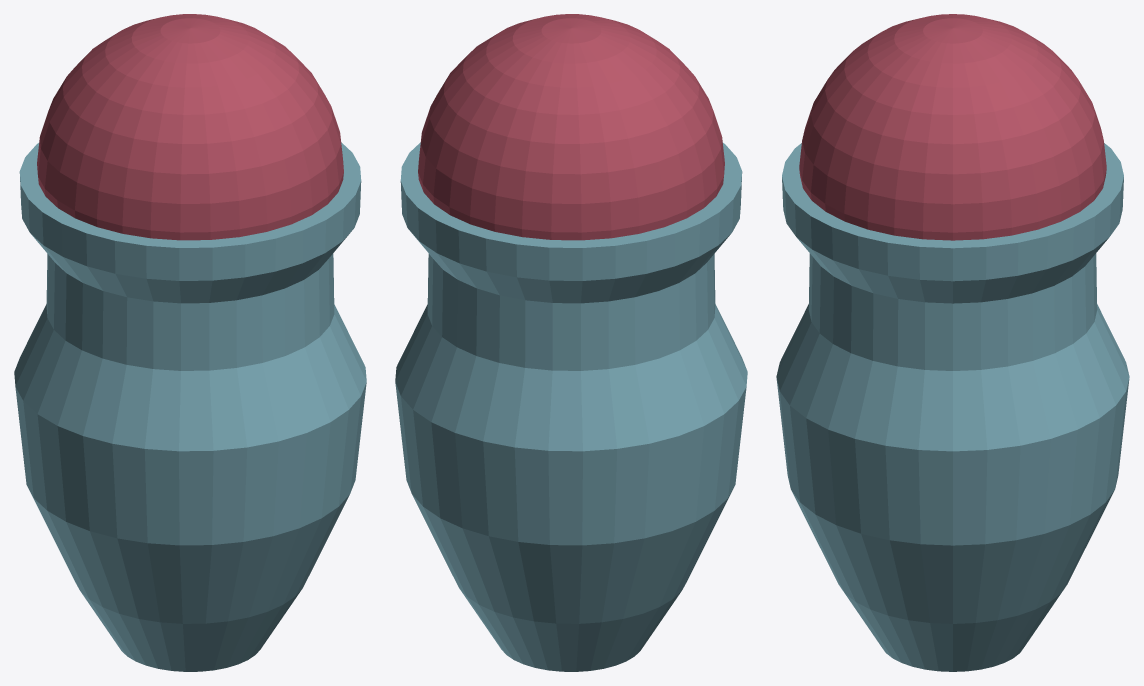
The model's file is SK_P_Smashroom_02_Lvl1.fbx.
3 renders of one model, left to right at view 1: azimuth 30°, elevation 25°; view 2: azimuth 150°, elevation 25°; view 3: azimuth 270°, elevation 25°, orthographic.
Visible parts, largest first — view 1: Pot_02_Lvl1; view 2: Pot_02_Lvl1; view 3: Pot_02_Lvl1.
Part boxes in pixels (x1,y1,x2,y2): Pot_02_Lvl1: (14, 14, 366, 671); Pot_02_Lvl1: (395, 14, 747, 671); Pot_02_Lvl1: (776, 14, 1129, 671).
Bounding box in the file's own units: 59.83 × 59.83 × 115.
